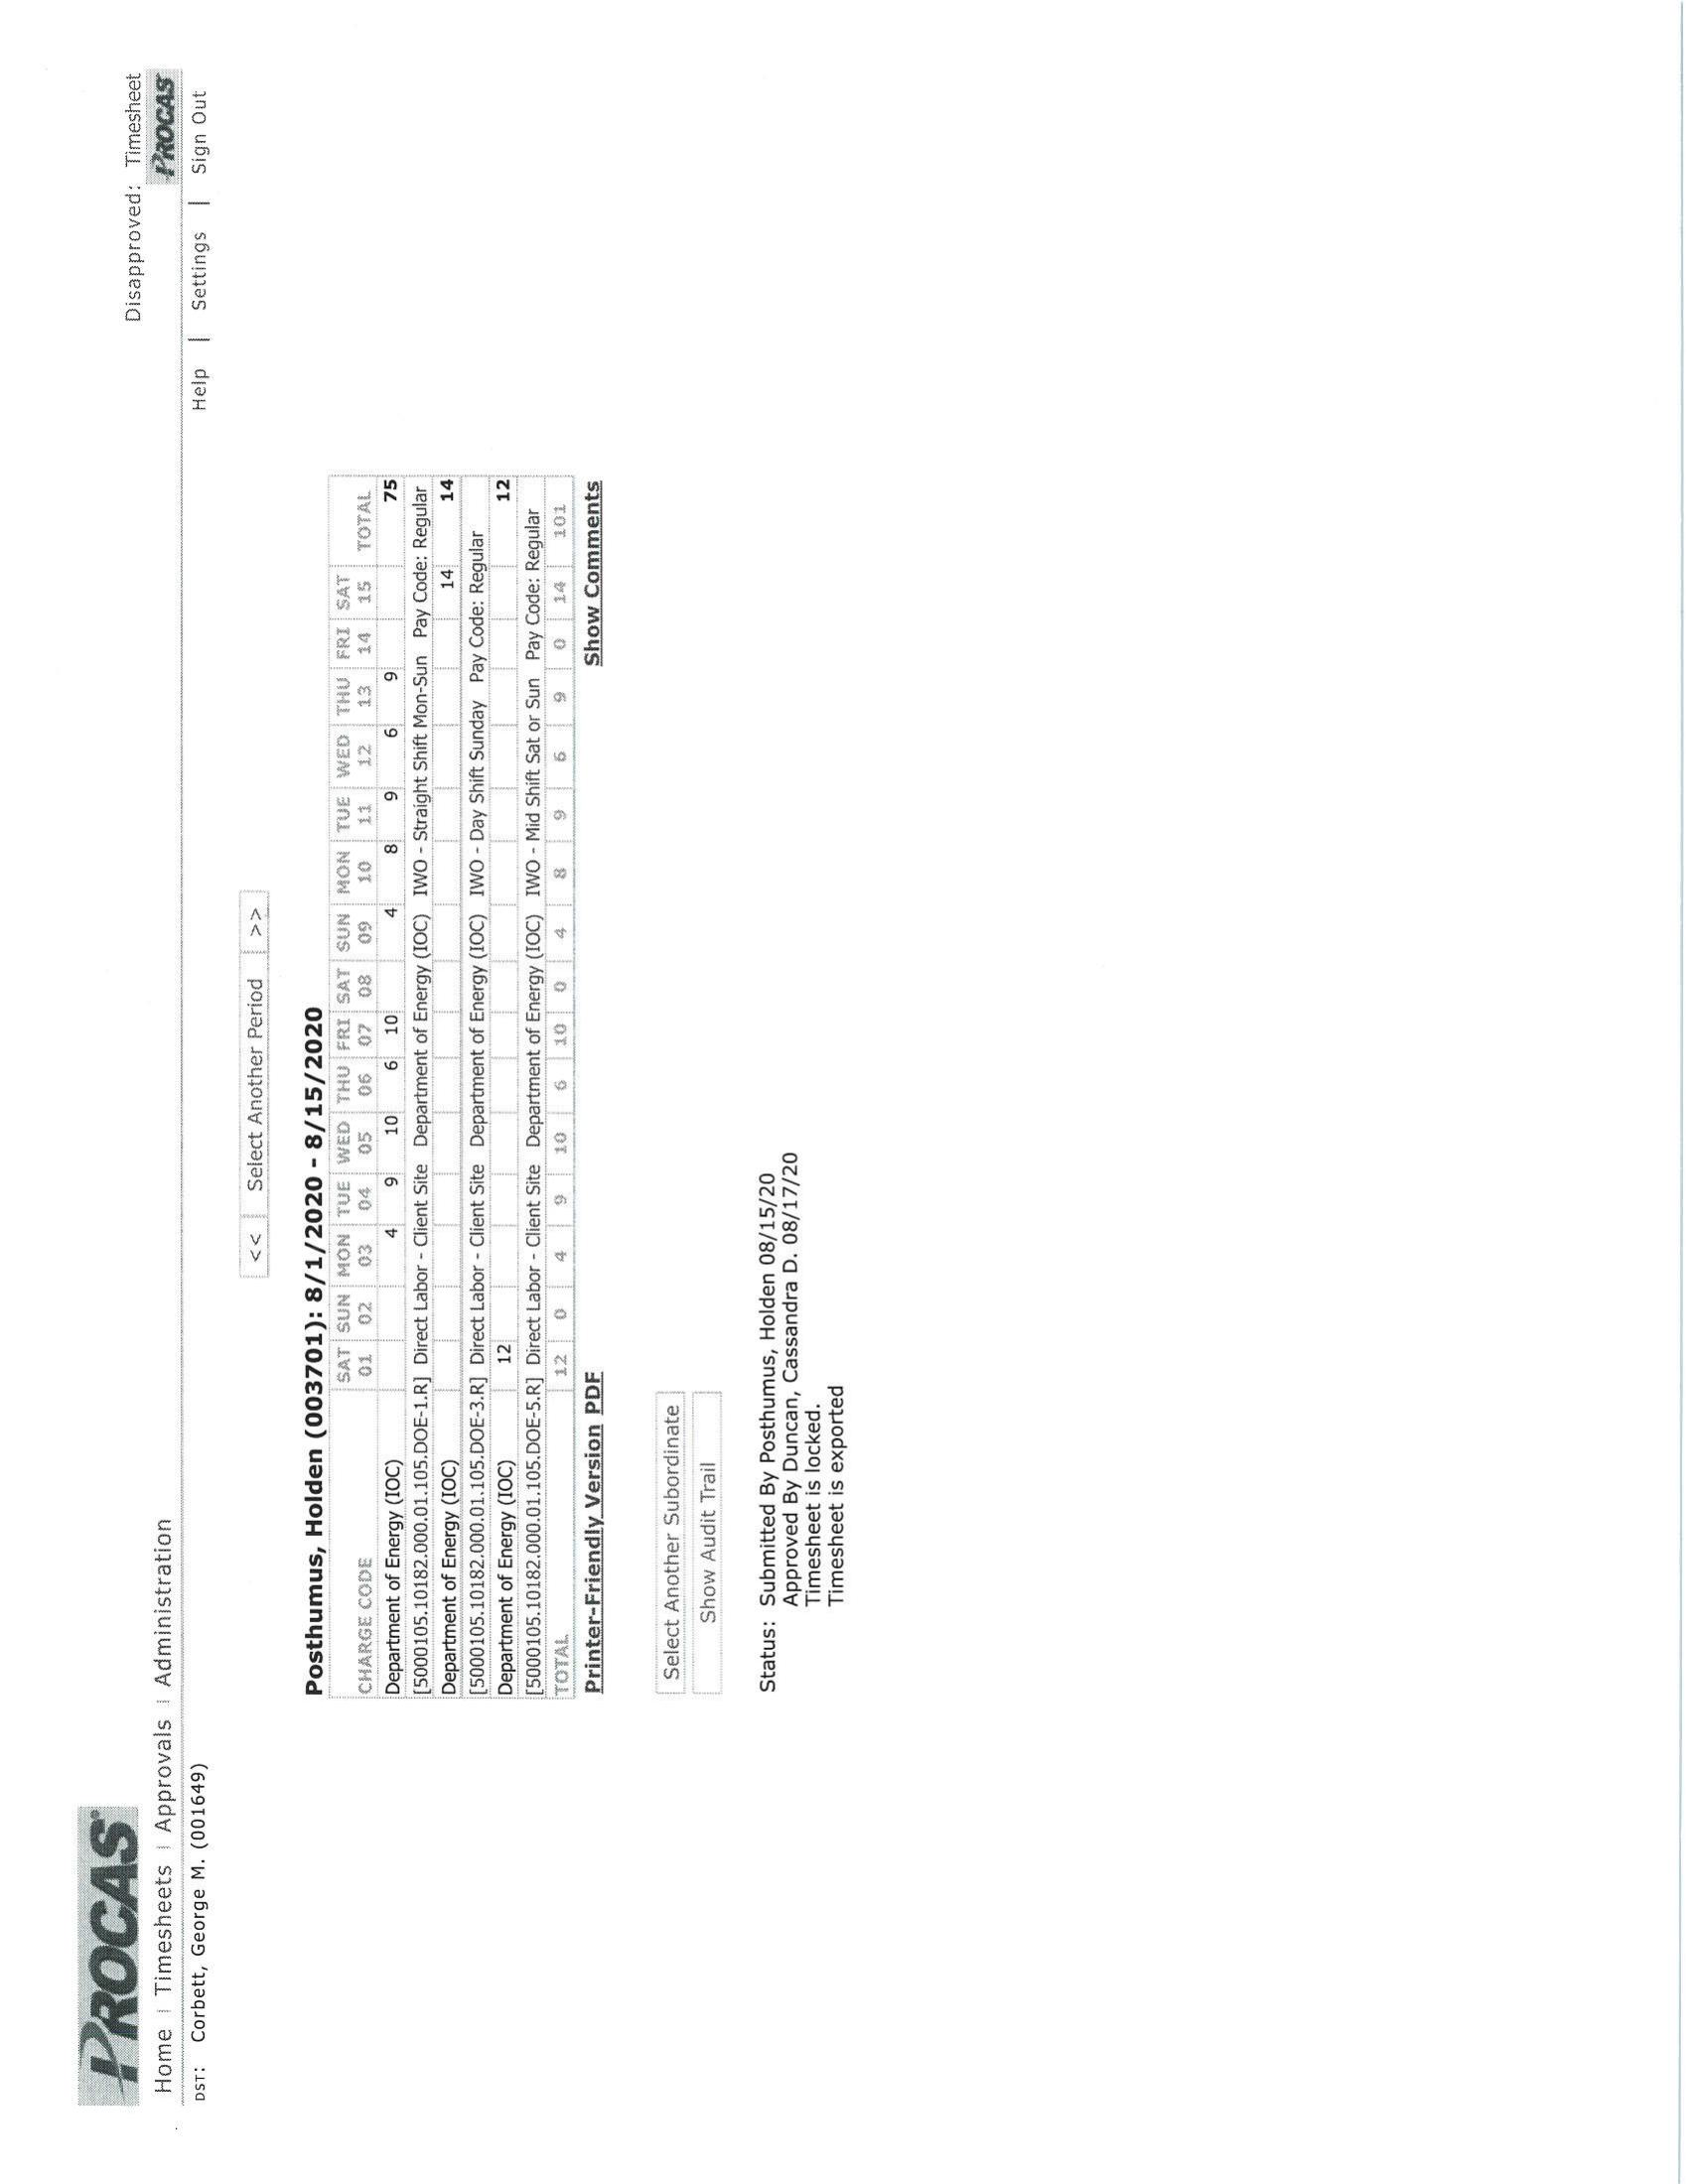table: (326, 470, 583, 1702)
